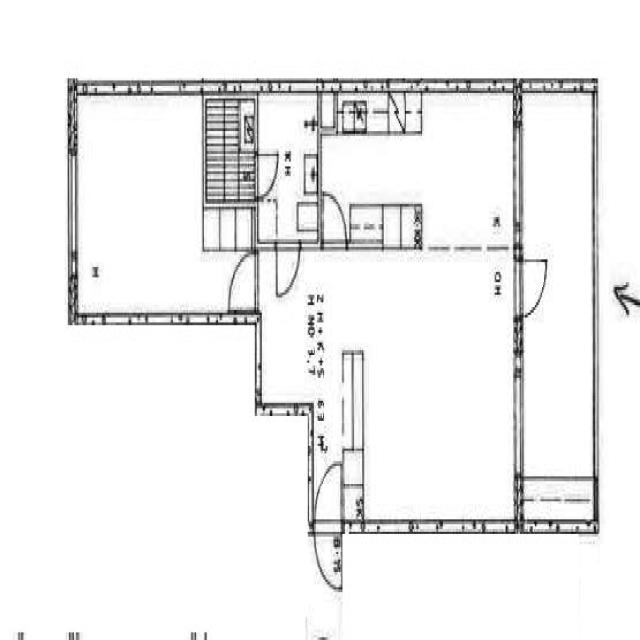door: (313, 456, 343, 590), (516, 252, 550, 318), (227, 247, 259, 313), (320, 187, 348, 251), (274, 237, 302, 300), (255, 147, 280, 200)
window: (64, 145, 83, 268), (509, 358, 527, 480), (511, 117, 527, 235)
zone: (312, 245, 514, 528), (323, 92, 516, 251), (72, 93, 207, 317), (518, 88, 595, 480), (257, 91, 319, 238), (202, 90, 258, 200), (313, 462, 343, 590)
